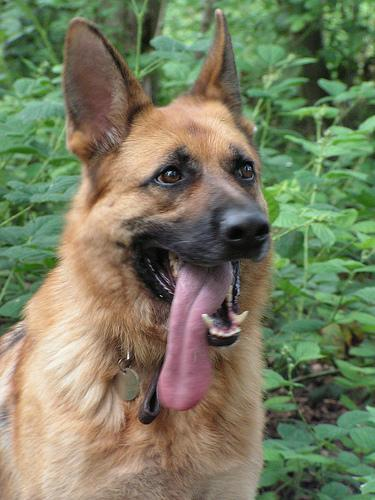German_shepherd: (1, 8, 270, 498)
